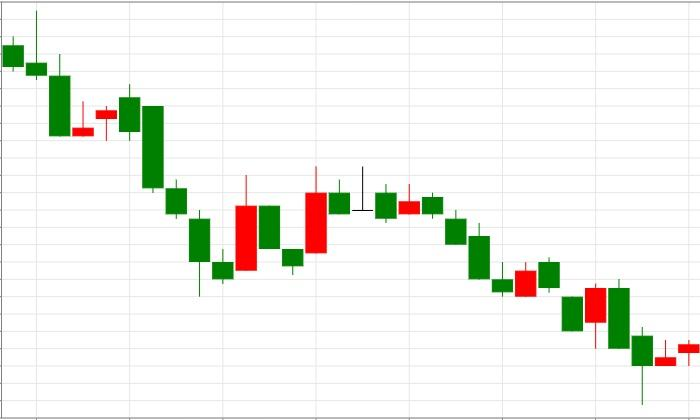morning_star_rise: (119, 83, 257, 297)
